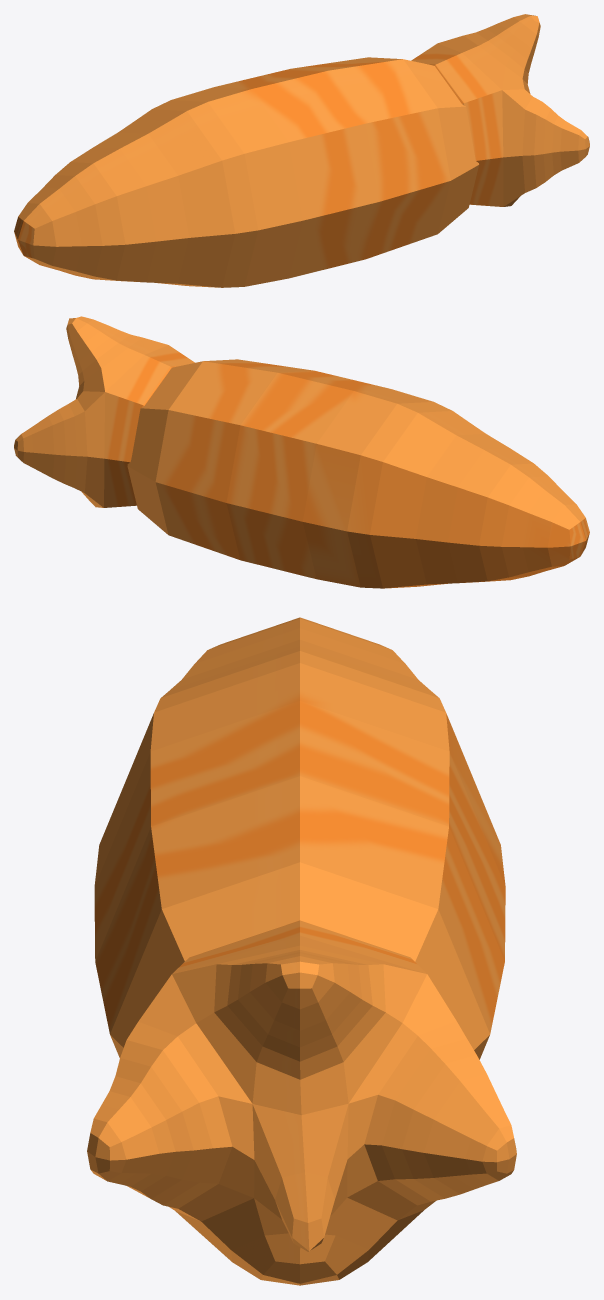
File: zanahoriareturns.fbx
3 views of the same model, one above another, from view 1: azimuth 30°, elevation 25°; view 2: azimuth 150°, elevation 25°; view 3: azimuth 270°, elevation 25° (orthographic). The views are drawn at different scales.
Visible parts, largest first — view 1: Zanahoria; view 2: Zanahoria; view 3: Zanahoria.
Part boxes in pixels (x1,y1,x2,y2): Zanahoria: (14, 14, 589, 287); Zanahoria: (14, 316, 589, 588); Zanahoria: (87, 617, 516, 1285).
Bounding box in the file's own units: 325 × 113 × 115.
Materials: 2 (2 with a texture image).
